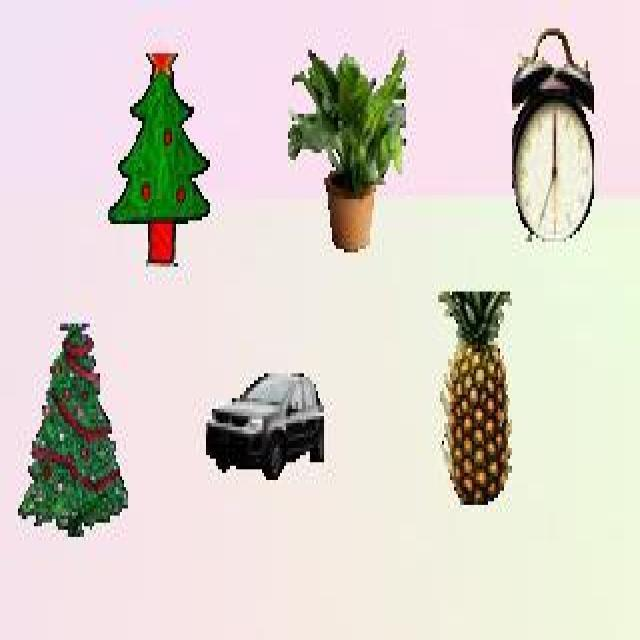Other Objects: (286, 44, 406, 254), (510, 28, 594, 244)
